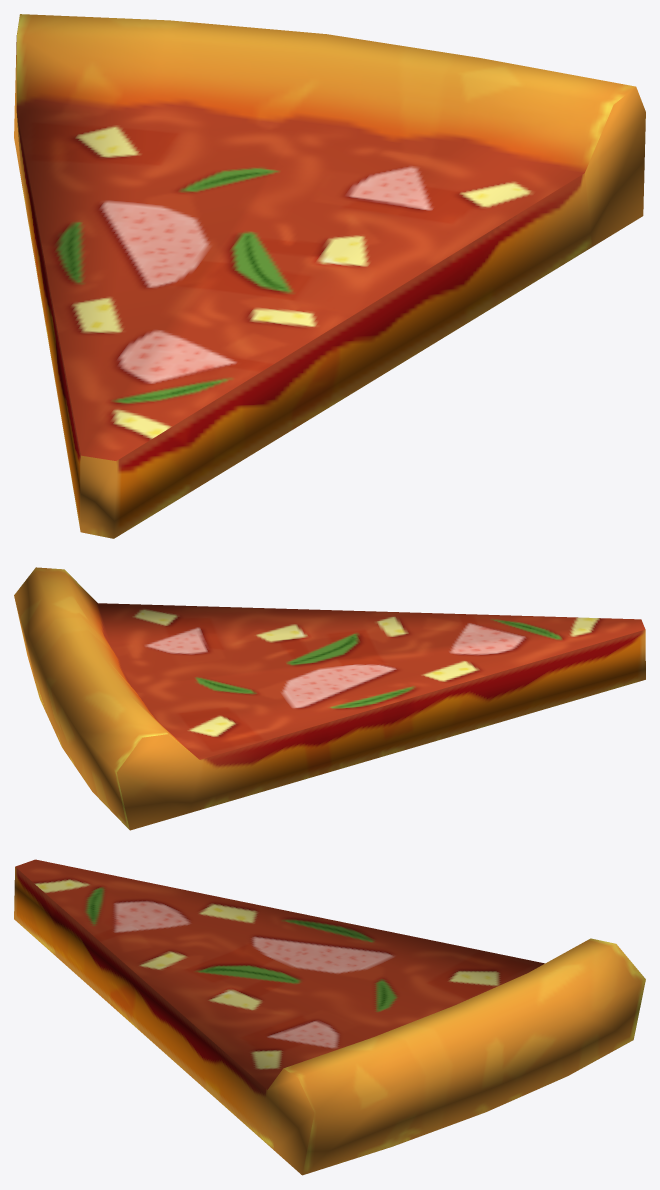
Rendered from Food_Pizza.fbx.
3 renders of one model, top to bottom at view 1: azimuth 30°, elevation 25°; view 2: azimuth 150°, elevation 25°; view 3: azimuth 270°, elevation 25°, orthographic. The views are drawn at different scales.
Parts seen in each view (by area): view 1: Food_Pizza; view 2: Food_Pizza; view 3: Food_Pizza.
Boxes of the visible parts, x1=… form: Food_Pizza: x1=14, y1=14, x2=645, y2=538; Food_Pizza: x1=14, y1=567, x2=645, y2=830; Food_Pizza: x1=14, y1=859, x2=645, y2=1175.
Bounding box in the file's own units: 0.371 × 0.0641 × 0.3786.
